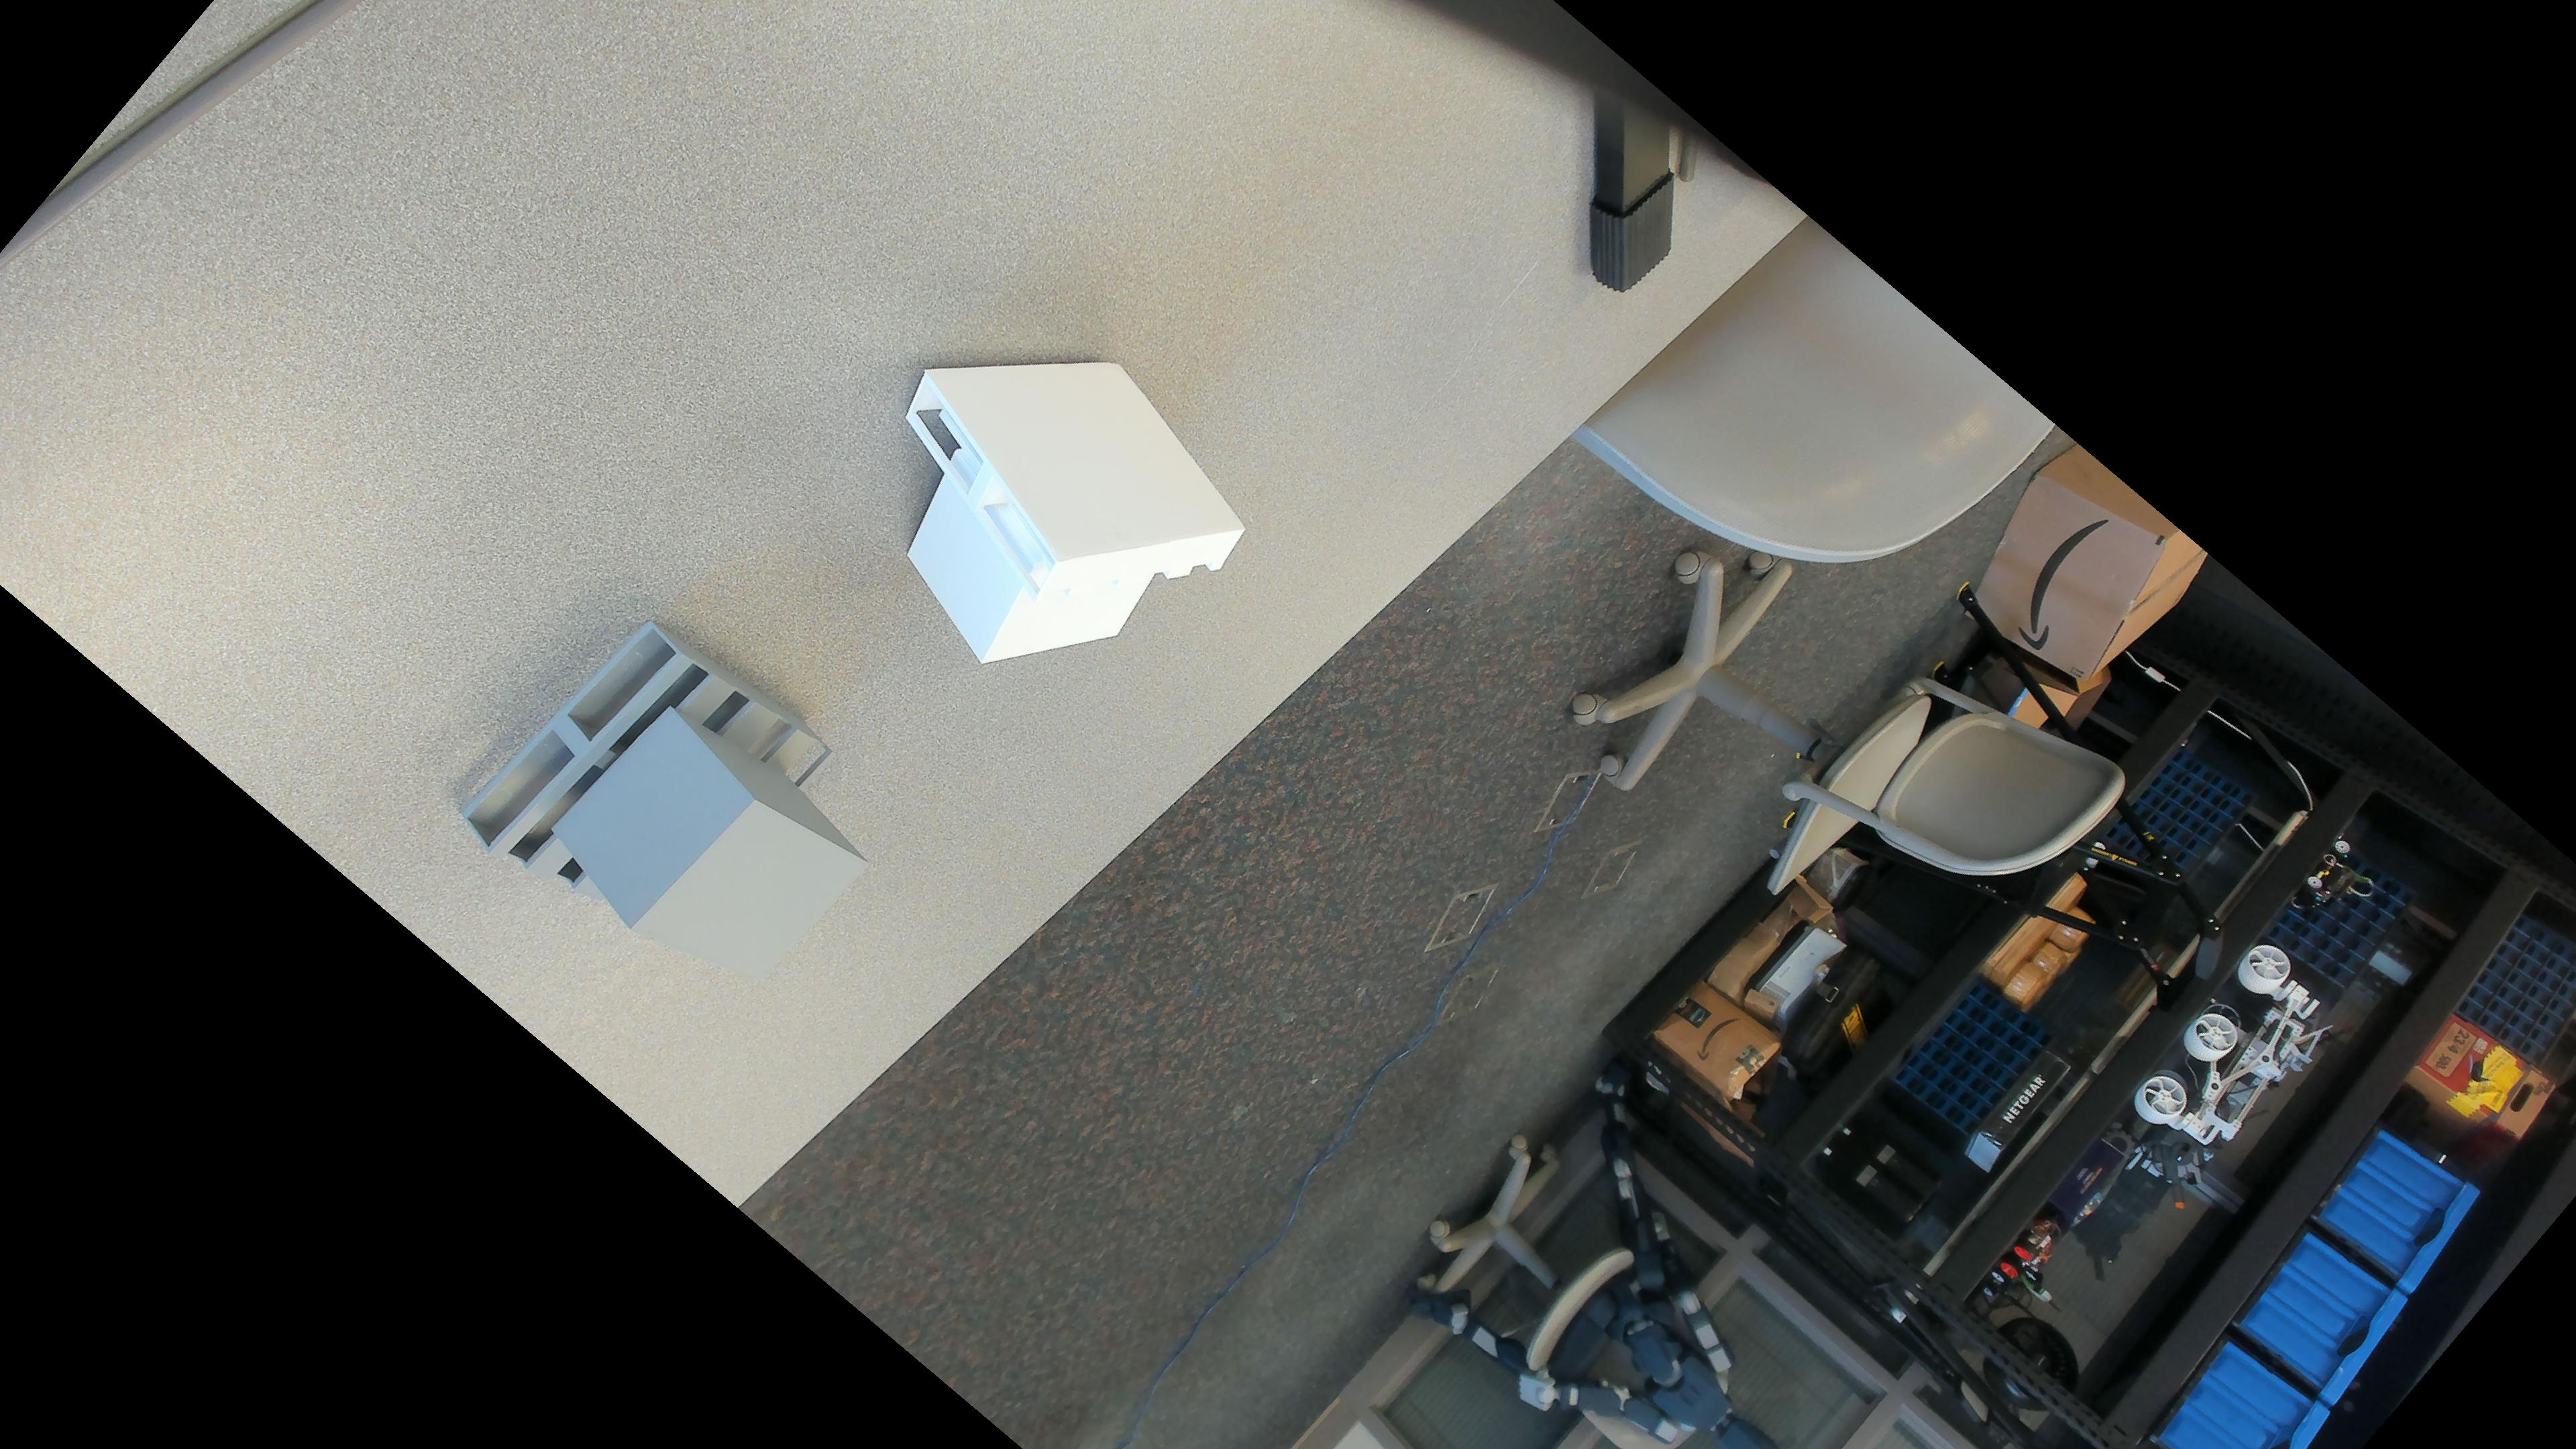grey pallet: (453, 619, 869, 1001)
white pallet: (885, 343, 1260, 674)
